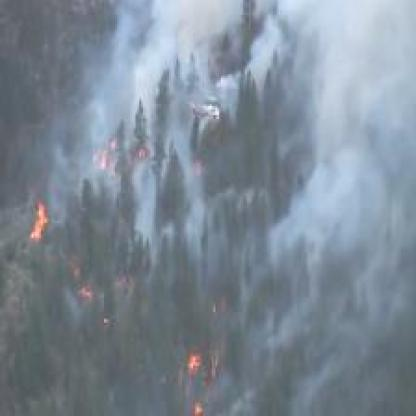fire: (80, 116, 207, 188), (167, 342, 219, 412), (25, 196, 56, 246), (68, 279, 96, 304)
smoke: (278, 1, 407, 272), (118, 6, 222, 82)
